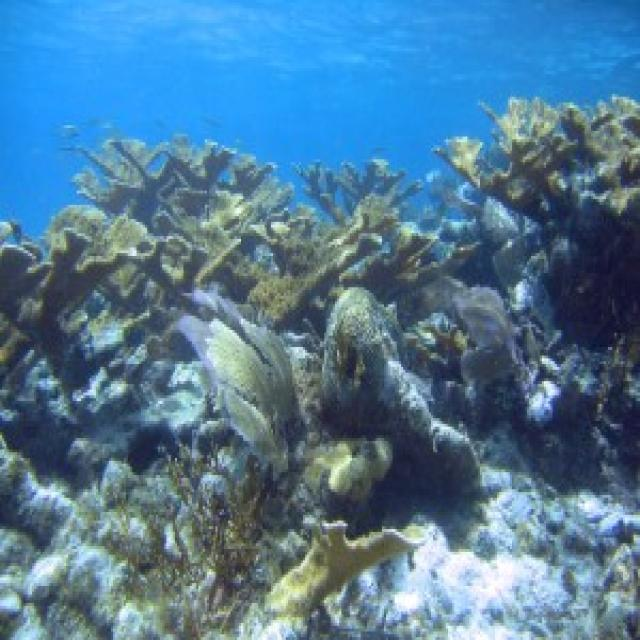Bleached: (327, 527, 594, 638)
Healthy: (1, 140, 481, 459), (1, 436, 274, 638), (440, 101, 639, 348), (458, 291, 639, 465), (319, 288, 475, 487), (266, 522, 417, 627)
